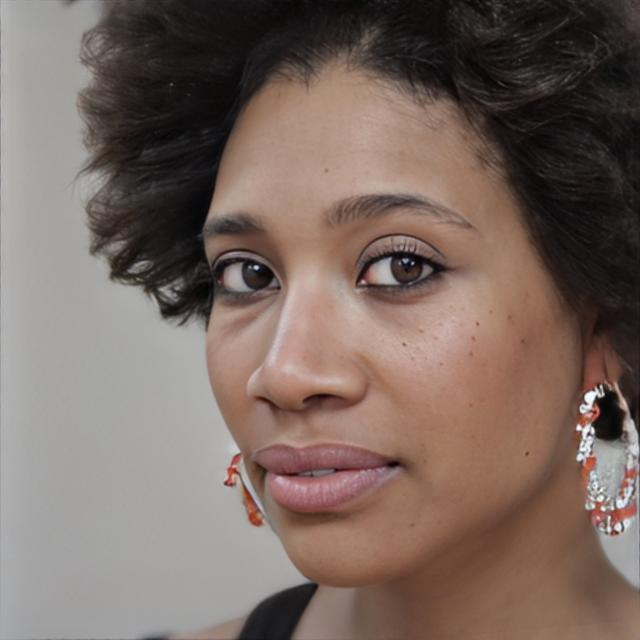neutral: (202, 56, 578, 586)
